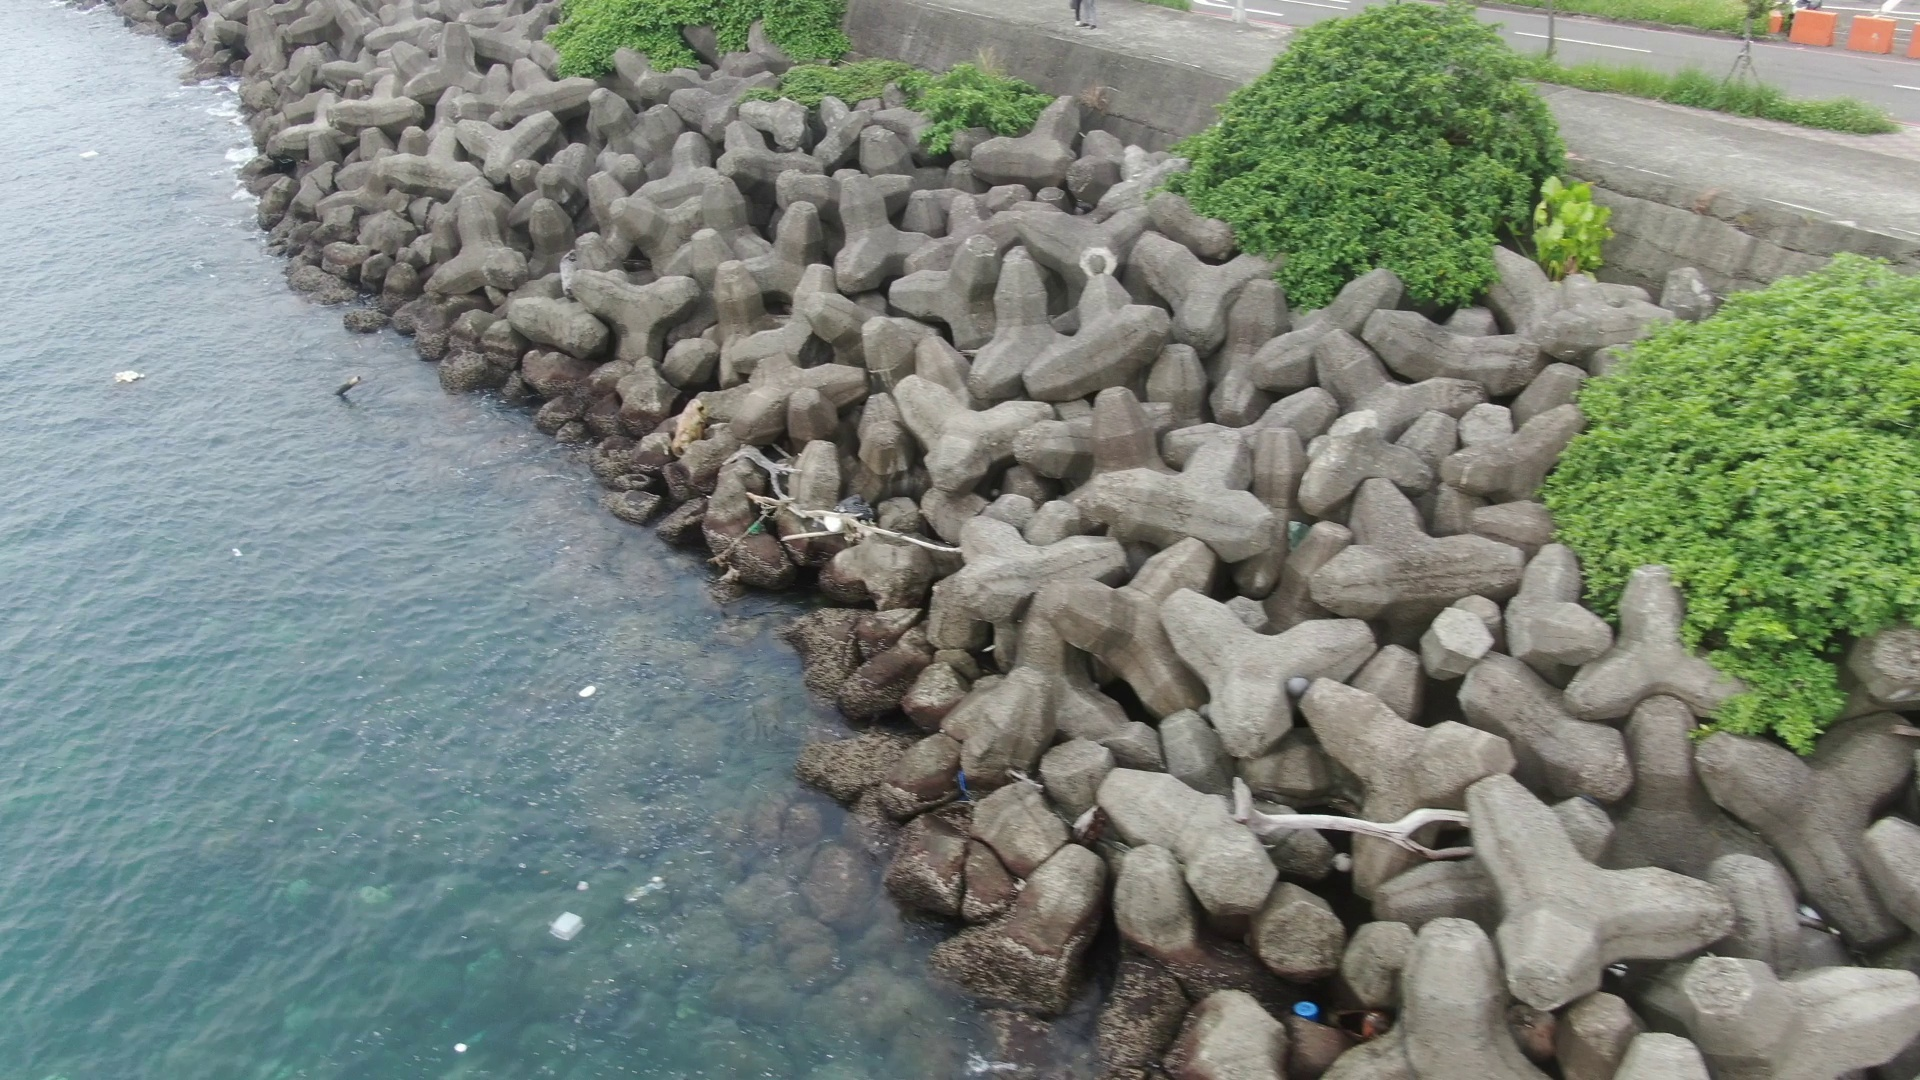garbage: (727, 460, 918, 570), (1284, 996, 1341, 1033), (539, 906, 585, 944), (109, 360, 152, 394)
